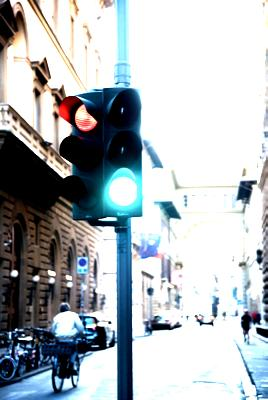International Road Signal Light: (64, 89, 143, 219)
